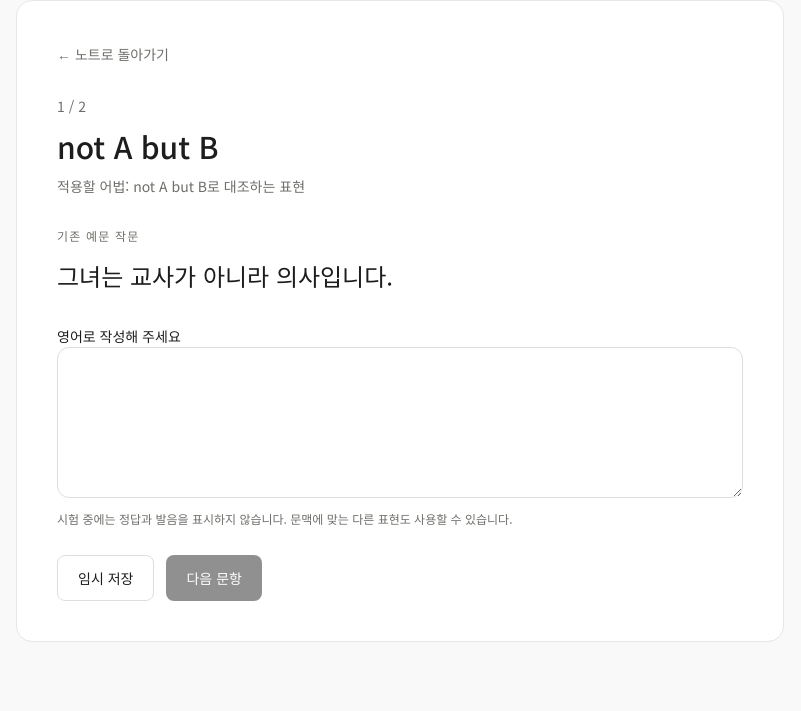
Grammar exam UI › failed_save_keeps_user_draft_and_question
In the text box labelled "영어로 작성해 주세요": [400, 422] box top-left (57, 347), bottom-right (743, 498), type "My draft"
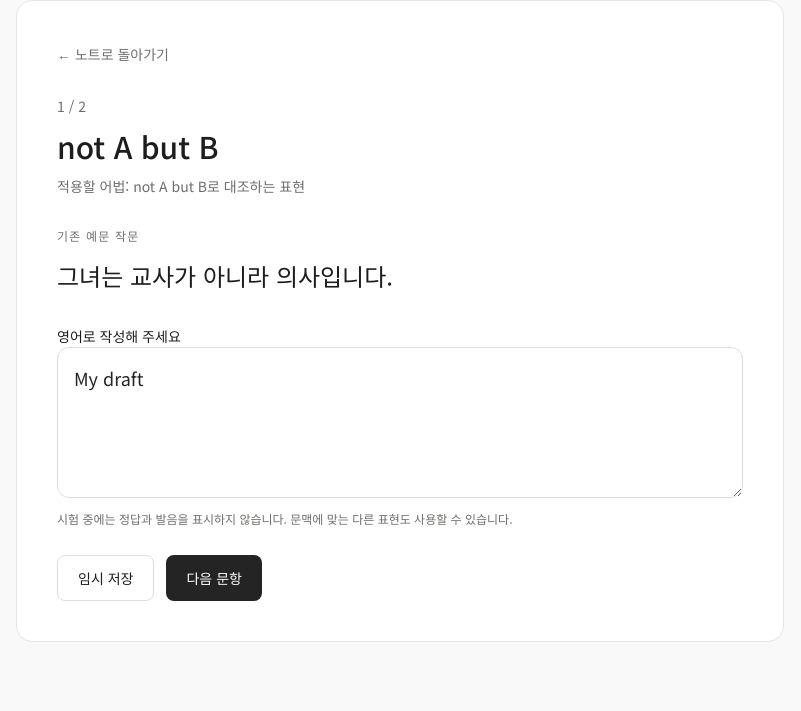
Click the button "다음 문항": [214, 578] box top-left (166, 555), bottom-right (262, 601)
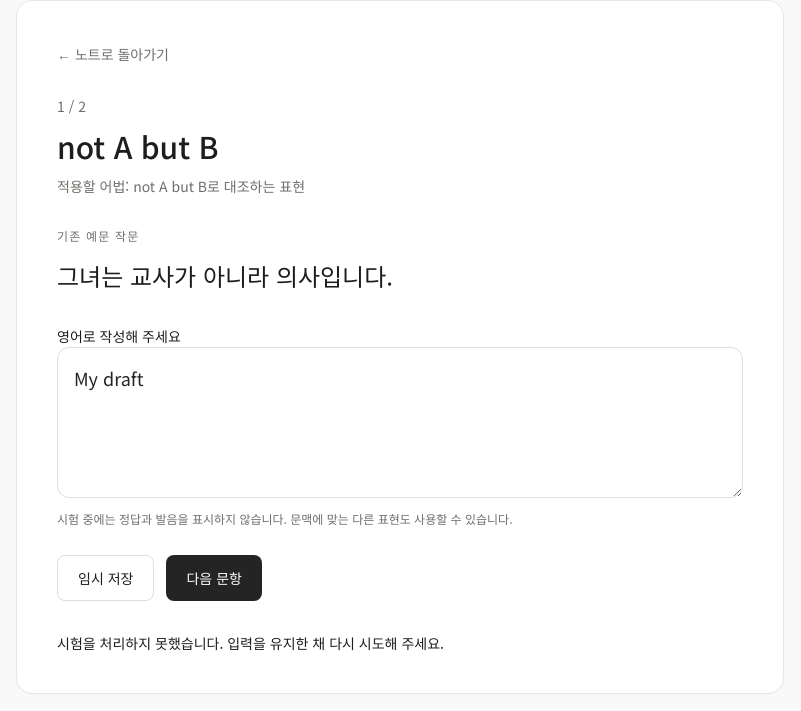
Expected: the text "1 / 2" is shown, top-left (57, 96), bottom-right (86, 116)
Expected: the text "시험을 처리하지 못했습니다. 입력을 유지한 채 다시 시도해 주세요." is shown, top-left (57, 633), bottom-right (444, 653)
